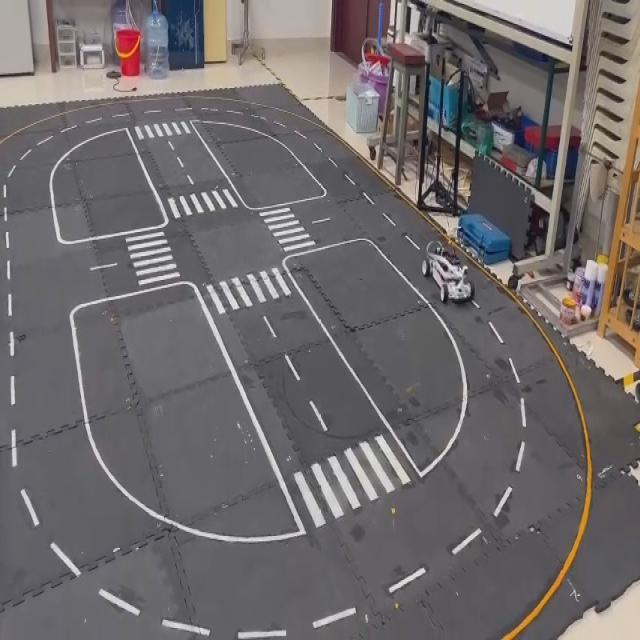SiCo-CAR: (421, 239, 475, 304)
